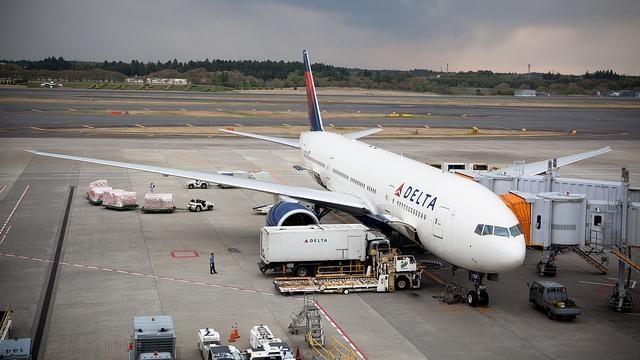car: (187, 198, 216, 212), (185, 180, 213, 188)
truck: (258, 220, 391, 278), (272, 255, 422, 296), (529, 280, 582, 320)
